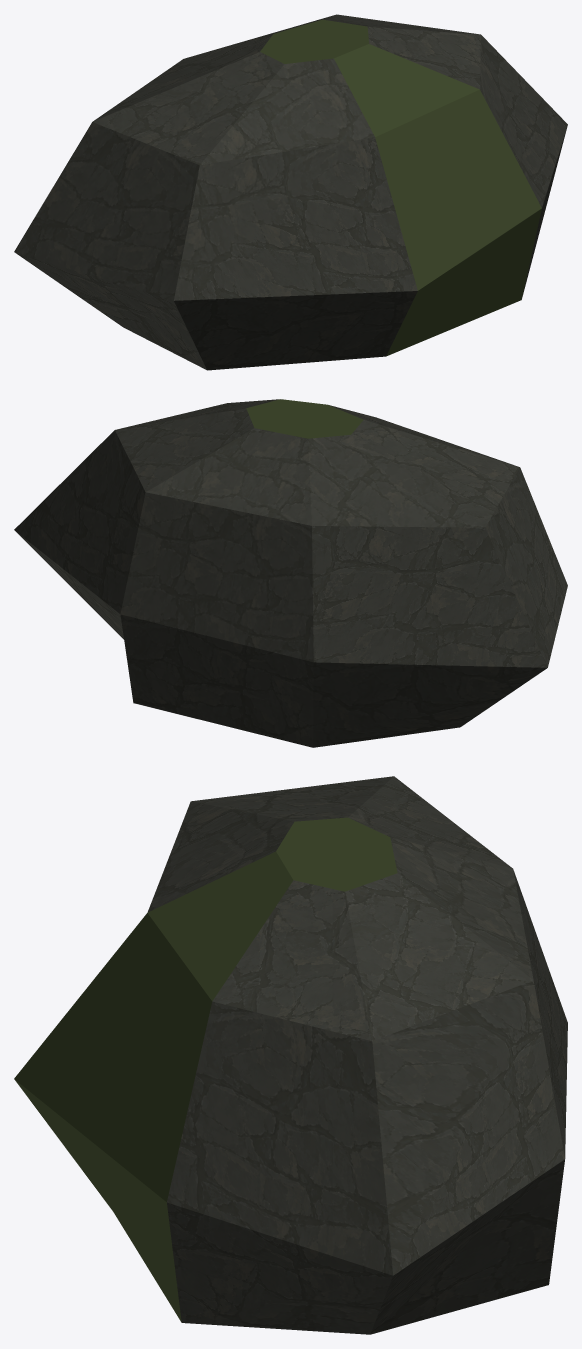
3 renders of one model, top to bottom at view 1: azimuth 30°, elevation 25°; view 2: azimuth 150°, elevation 25°; view 3: azimuth 270°, elevation 25°, orthographic. The views are drawn at different scales.
Visible parts, largest first — view 1: Weathered faceted boulder; view 2: Weathered faceted boulder; view 3: Weathered faceted boulder.
Part boxes in pixels (bbox=[...]): Weathered faceted boulder: bbox=[14, 14, 567, 370]; Weathered faceted boulder: bbox=[14, 399, 567, 747]; Weathered faceted boulder: bbox=[14, 776, 567, 1334].
Size of the model in its own units: 4.2 by 1.87 by 2.59.
Materials: 2 (1 with a texture image).
